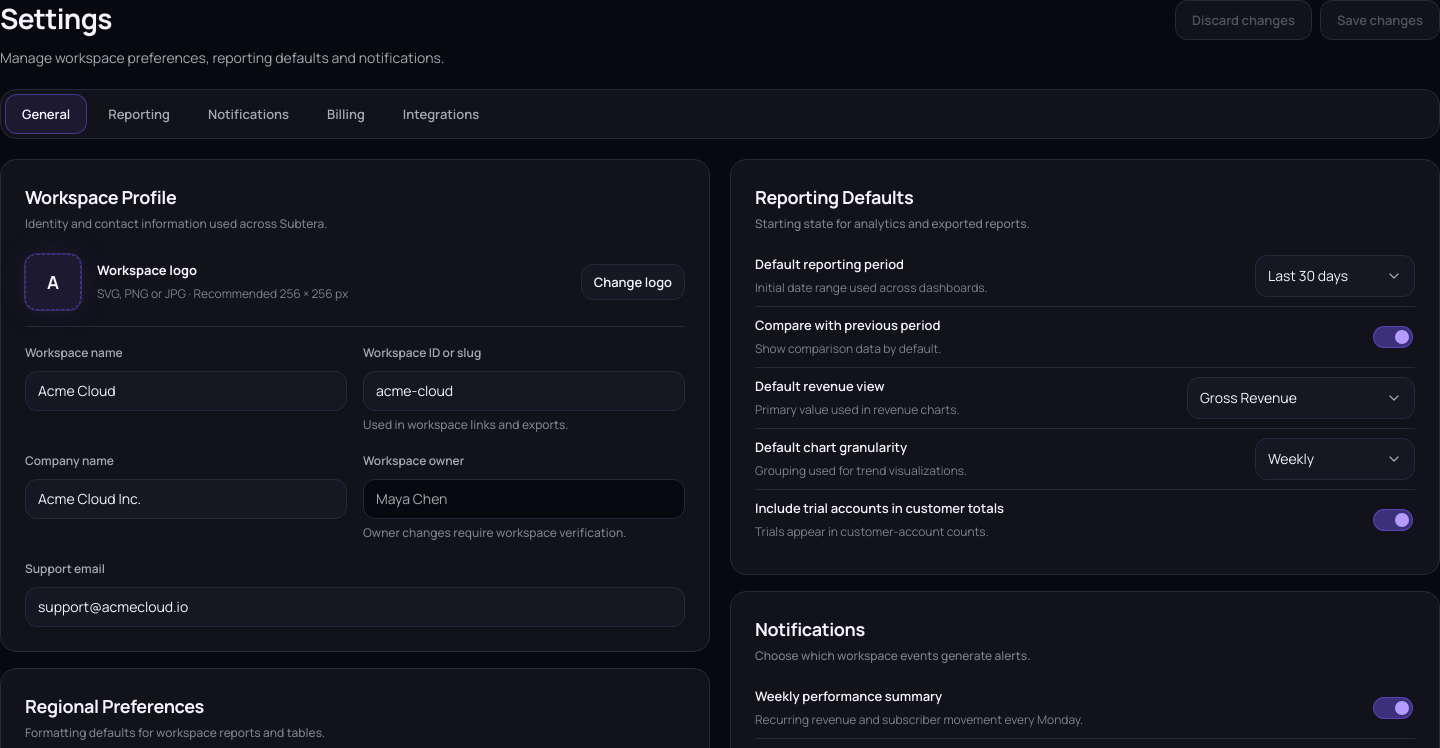
Test case: SettingsDashboard › validates required identity fields accessibly before saving
Clear the field labelled "Workspace name" at (186, 391), box [38,380,334,402]
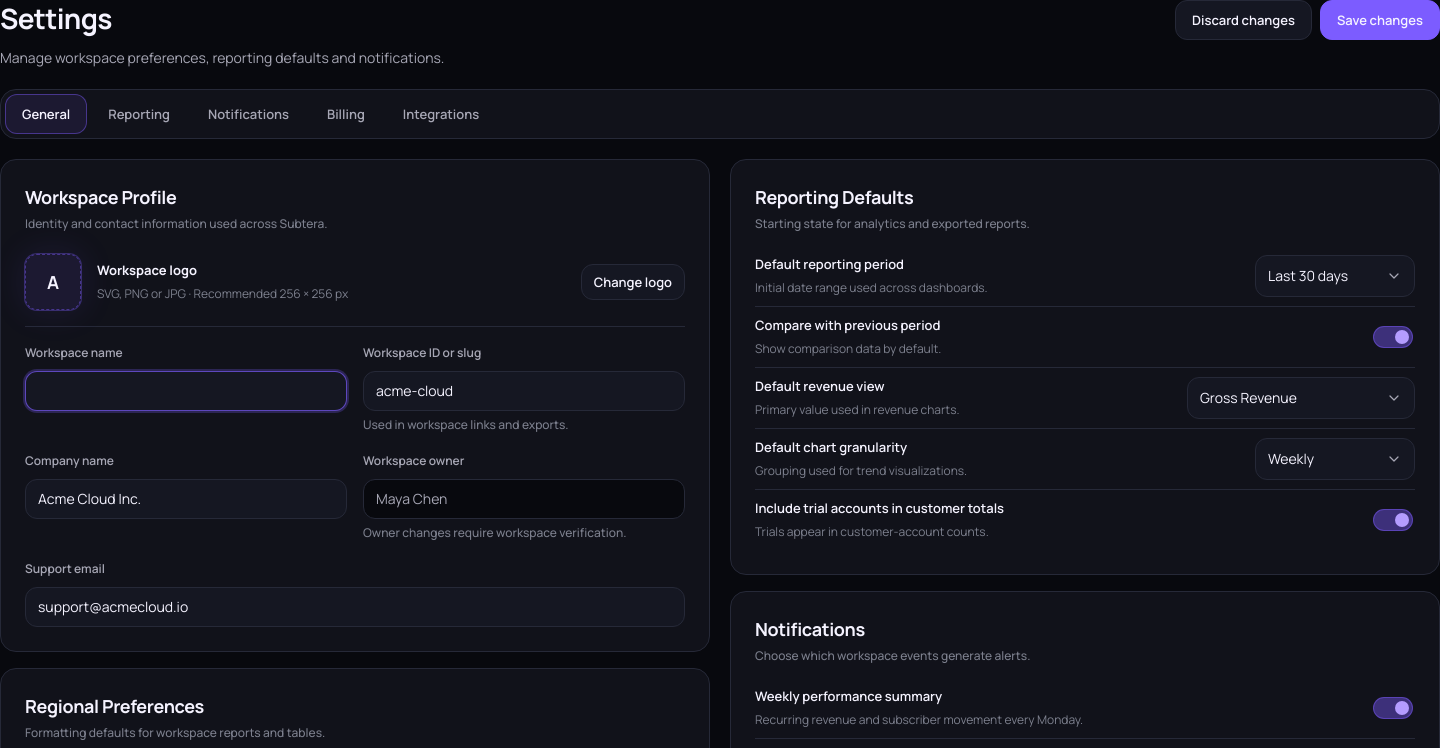
Replace the text in the field labelled "Workspace ID or slug" with "Not URL Safe" at (524, 391), box [376,380,672,402]
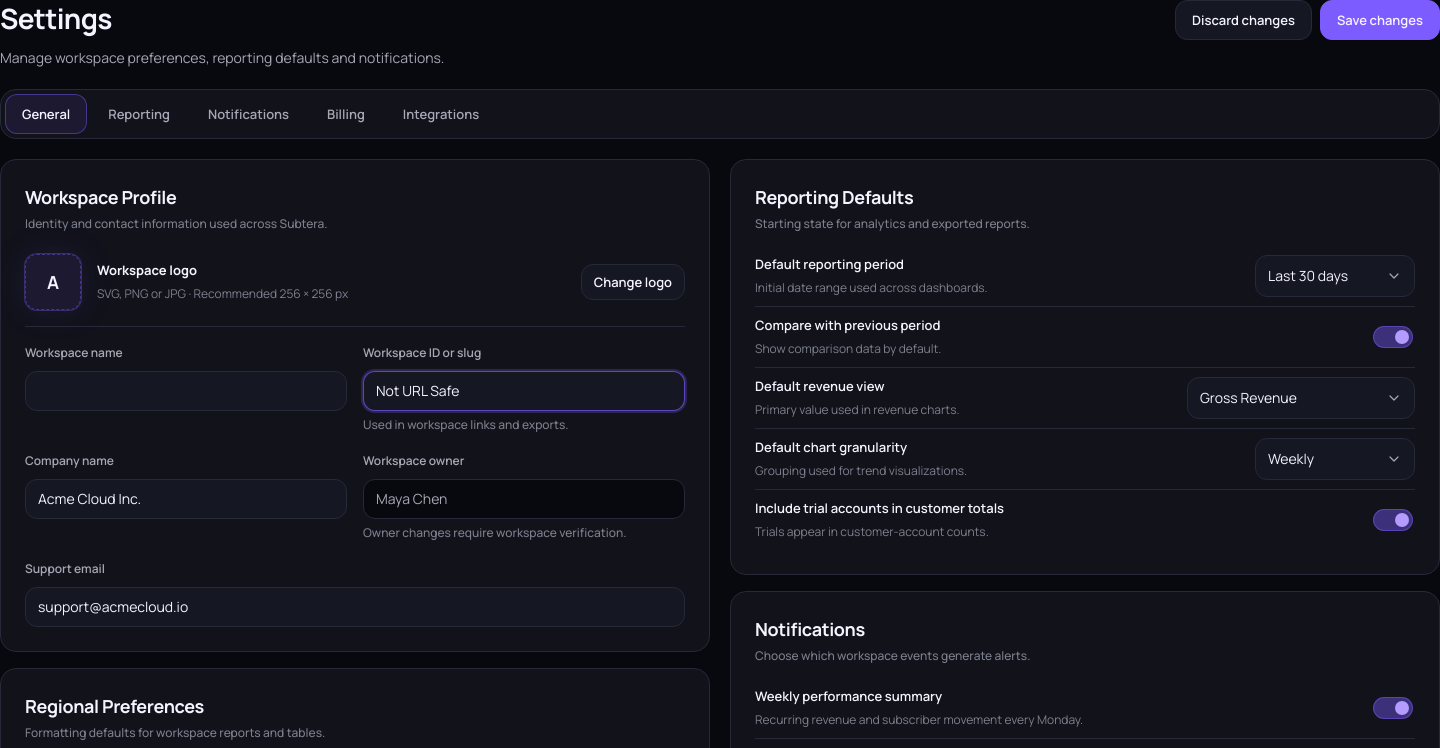
Replace the text in the field labelled "Support email" with "not-an-email" at (355, 607), box [38,596,672,618]
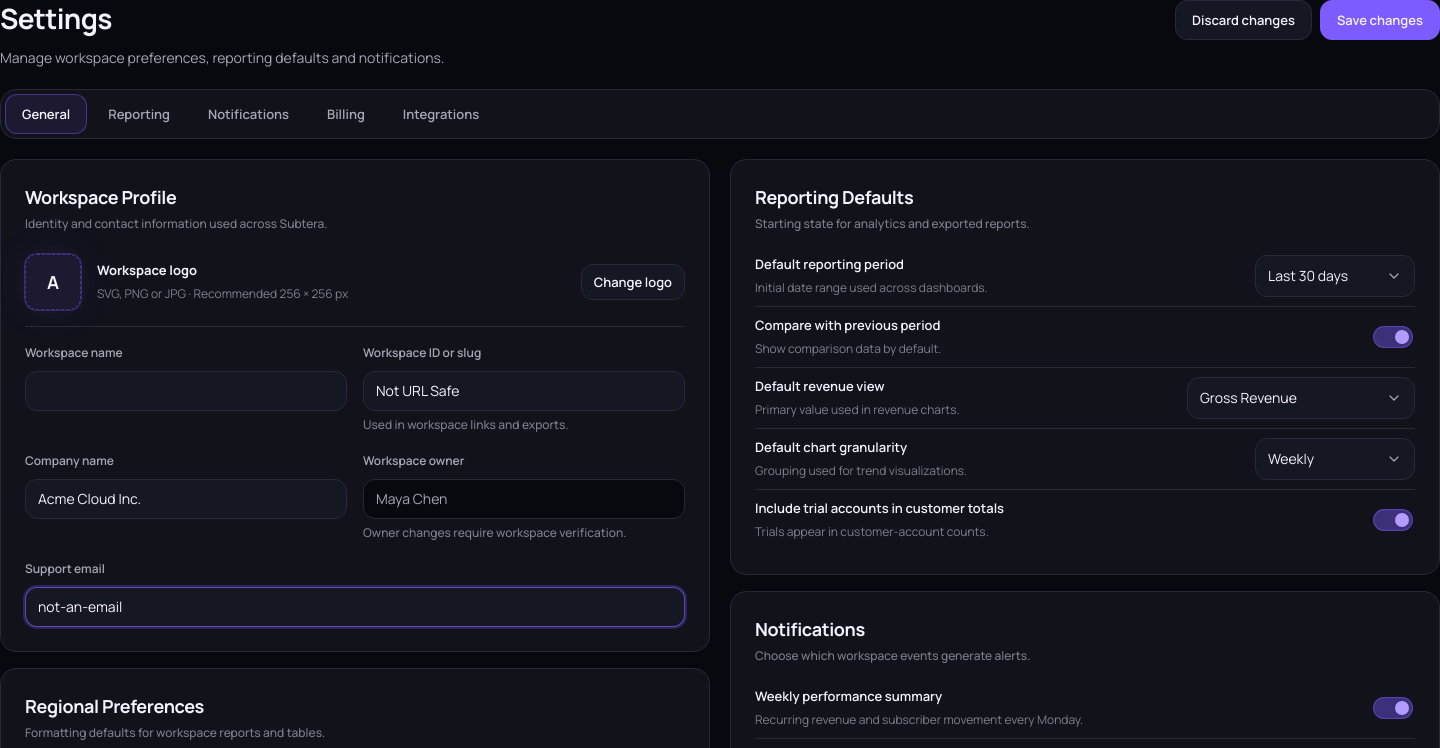
Click the button "Save changes" at (1380, 20), box [1320,0,1439,40]
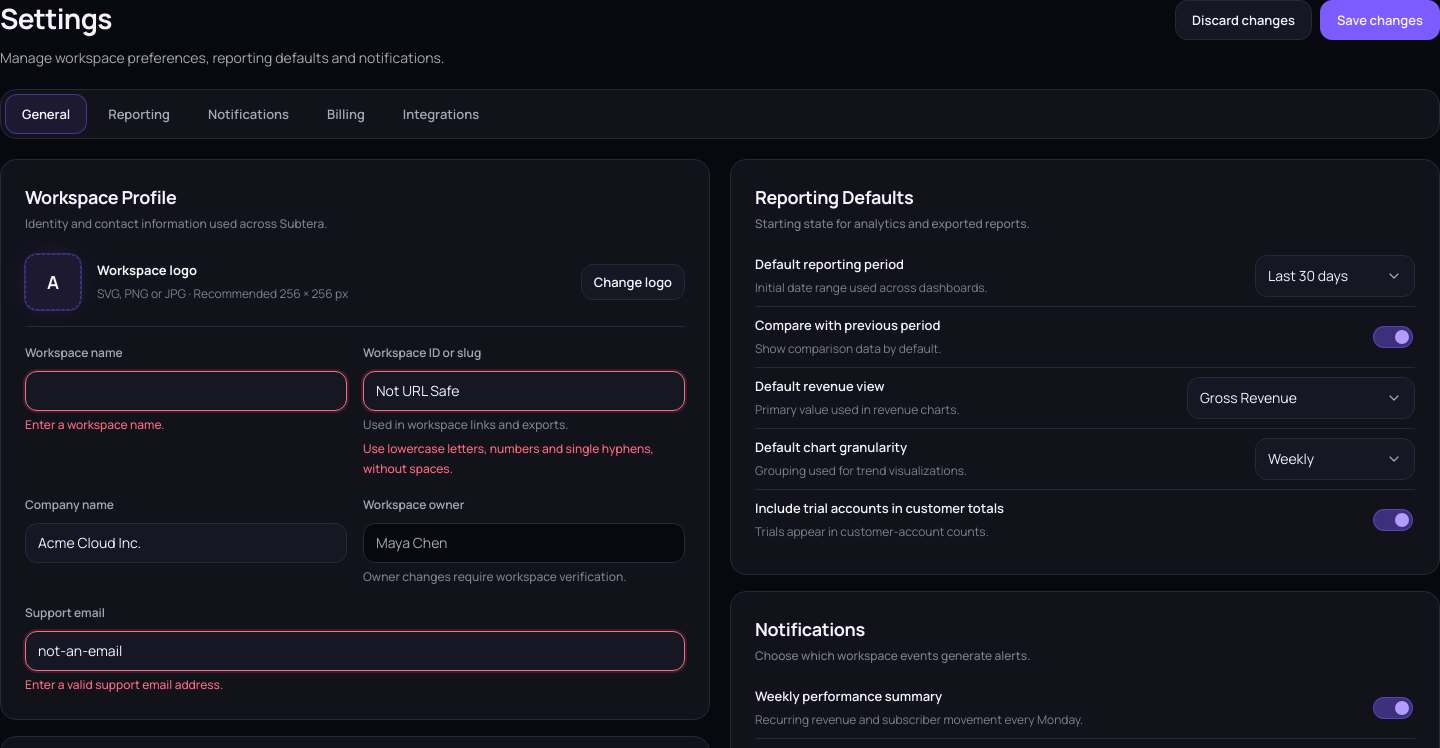
Expected: the text "Enter a workspace name." is shown, [25,416,164,433]
Expected: the text "Use lowercase letters, numbers and single hyphens" is shown, [363,440,654,477]
Expected: the text "Enter a valid support email address." is shown, [25,676,223,693]
